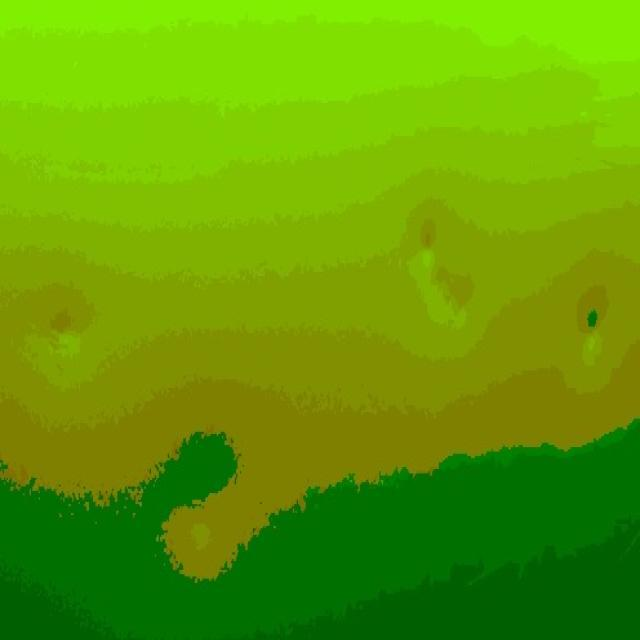dent: (413, 208, 479, 328), (34, 300, 82, 388), (575, 278, 613, 351)
